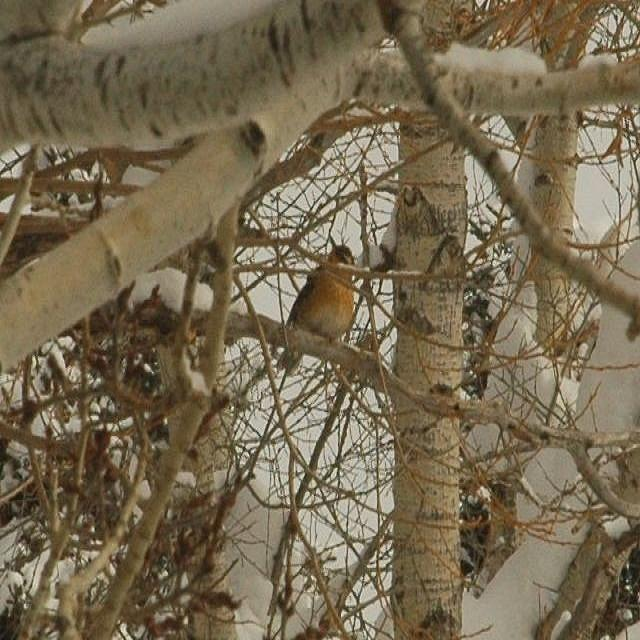bird: (276, 241, 364, 372)
